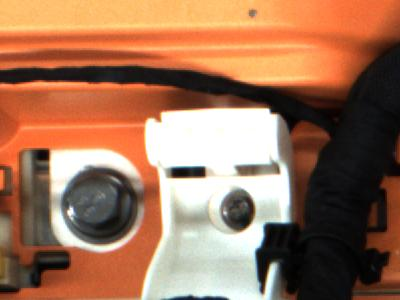nut_b: (57, 167, 146, 244)
